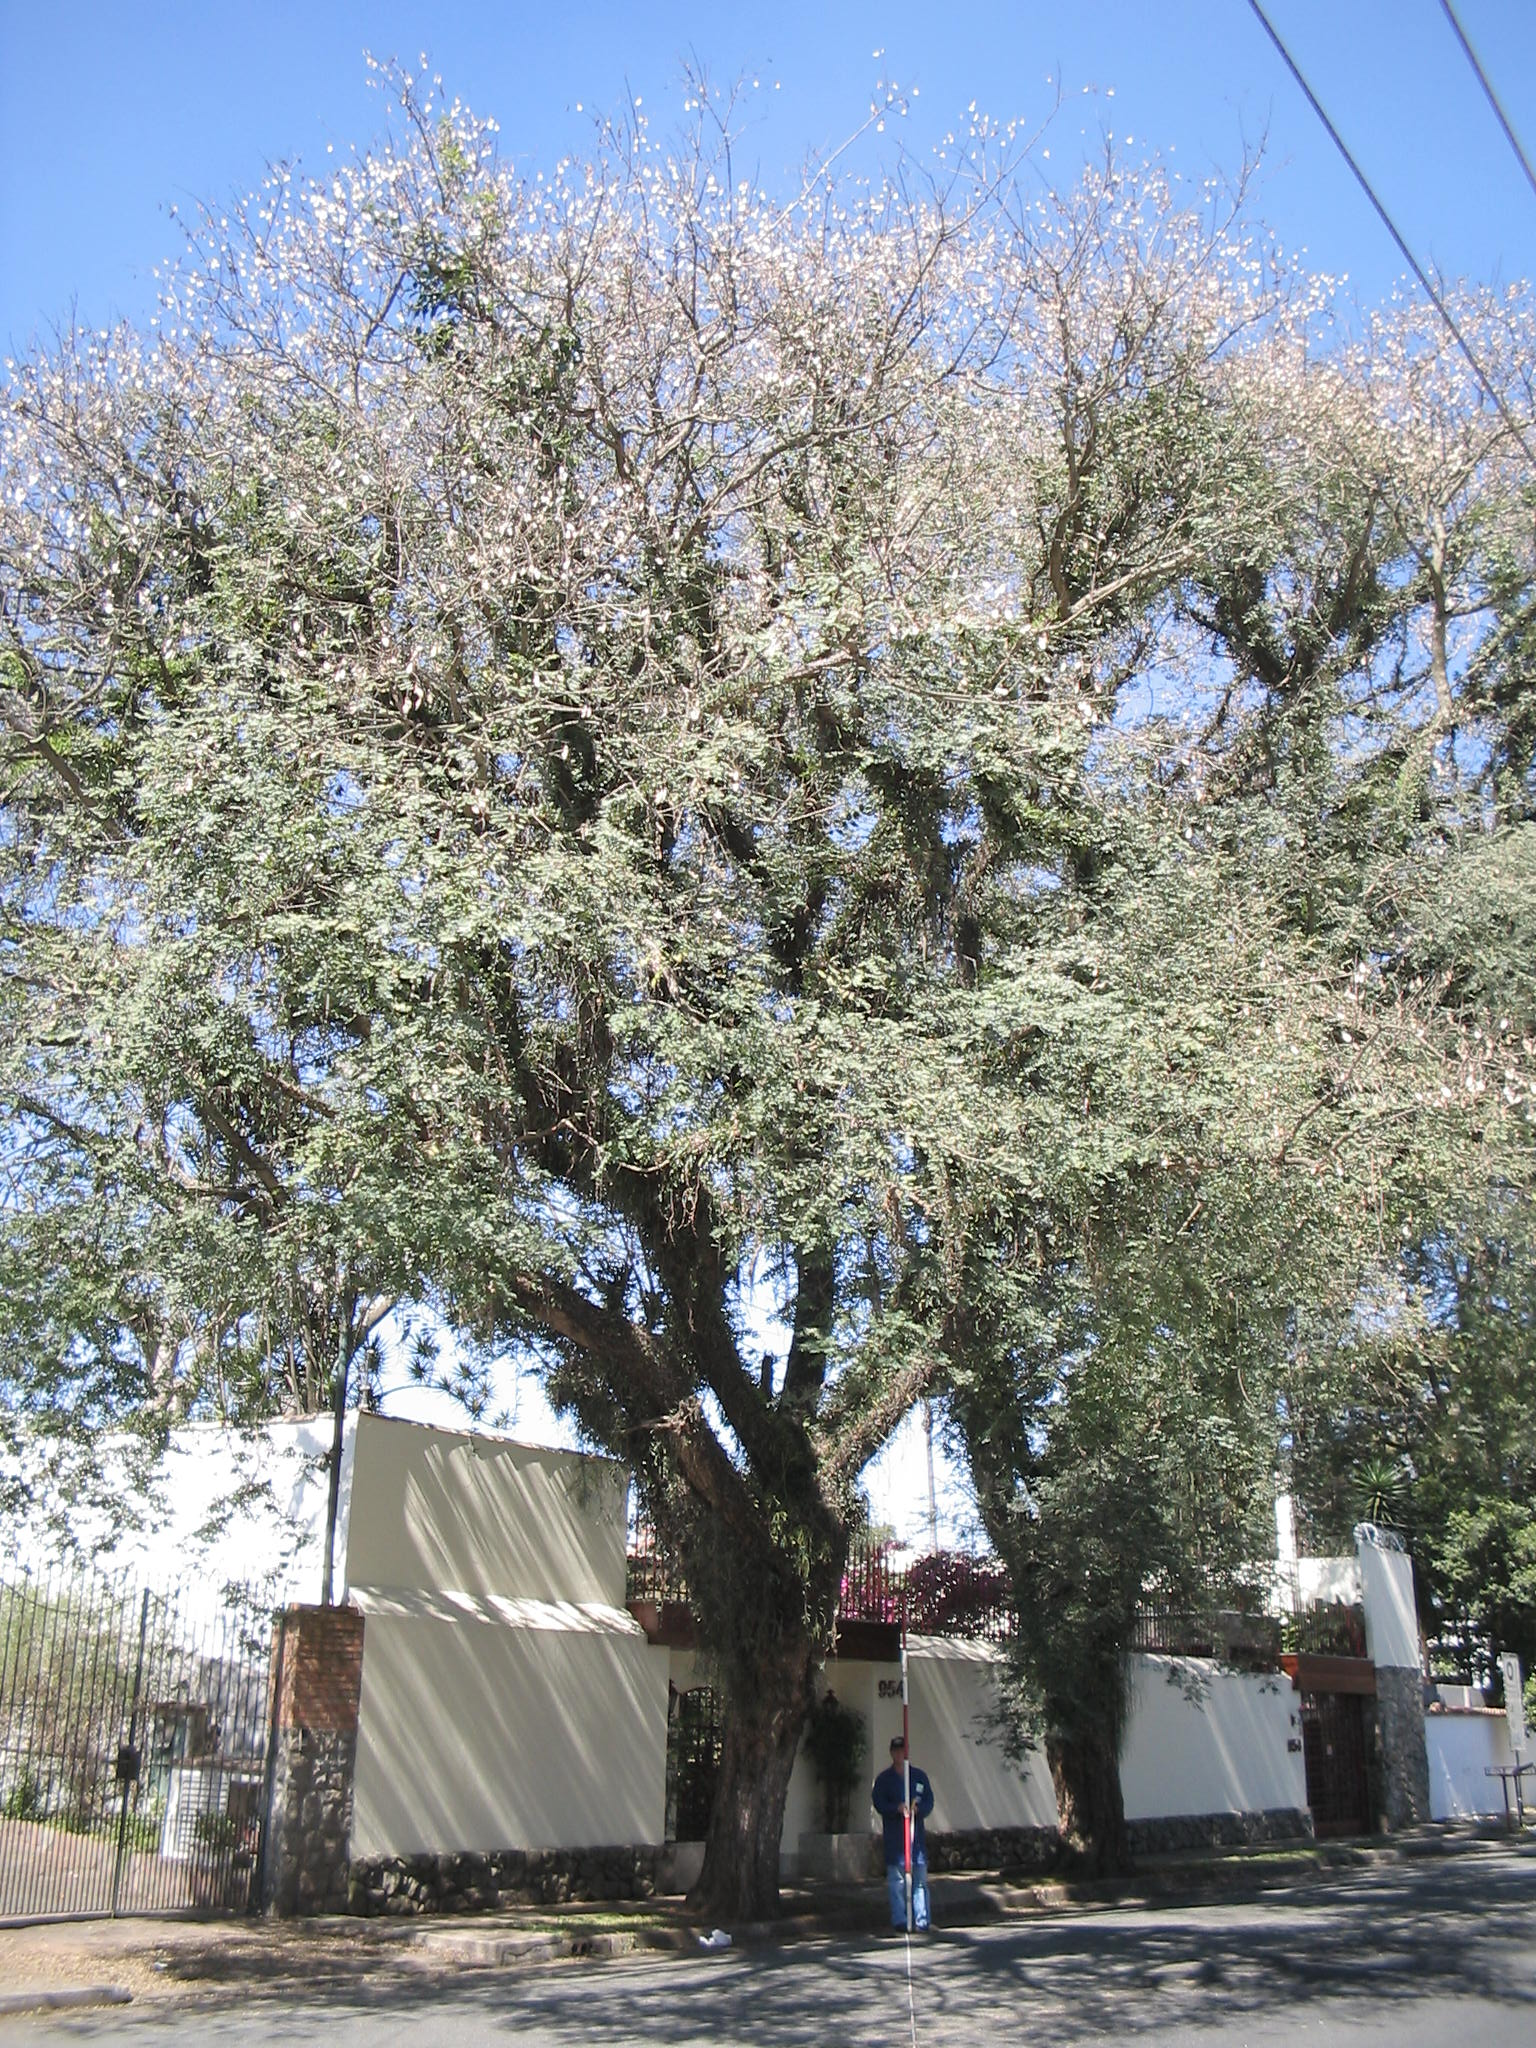crown: (18, 55, 1509, 1625)
stem: (650, 1540, 857, 1916), (999, 1576, 1175, 1874)
stick: (874, 1596, 936, 1932)
tree: (10, 50, 1512, 1924)
